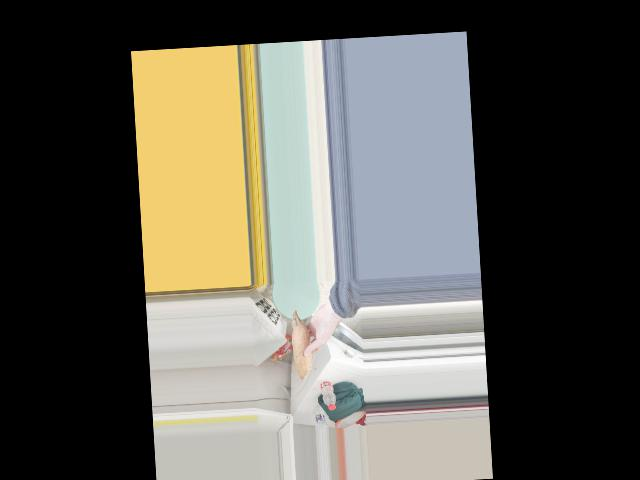sweet_potato: (290, 310, 317, 371)
